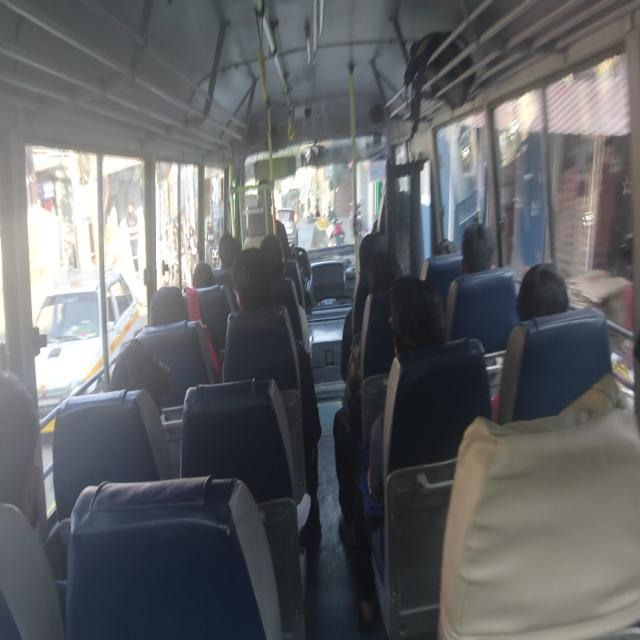person: (0, 364, 53, 521), (513, 245, 570, 336), (391, 274, 447, 359), (114, 342, 170, 396), (458, 218, 500, 278), (236, 250, 274, 312), (374, 180, 415, 234), (145, 283, 187, 327), (371, 253, 402, 298), (212, 222, 240, 268), (360, 233, 395, 268), (252, 174, 280, 217), (261, 232, 288, 274), (189, 259, 219, 296), (430, 236, 460, 262)
